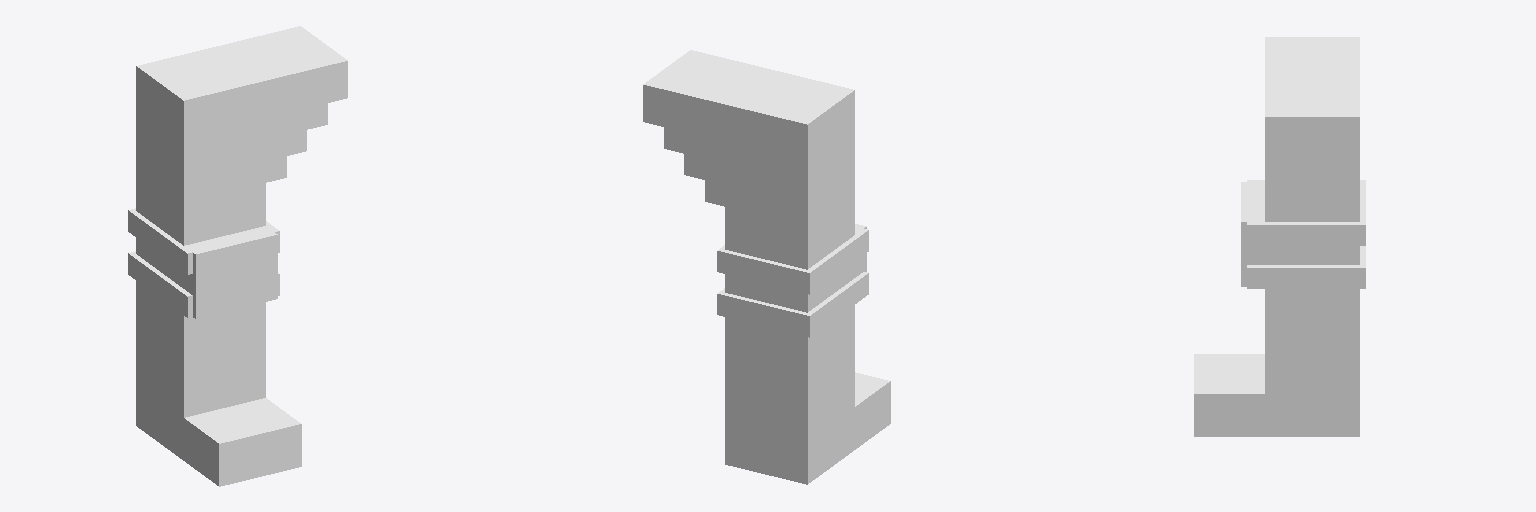
File: TEnemy-2.obj
The picture shows the model from 3 angles: view 1: azimuth 30°, elevation 25°; view 2: azimuth 150°, elevation 25°; view 3: azimuth 270°, elevation 25°; orthographic projection.
Parts seen in each view (by area): view 1: object 1; view 2: object 1; view 3: object 1.
Boxes of the visible parts, x1,y1,x2,y2 form: object 1: [128, 26, 347, 486]; object 1: [643, 50, 890, 484]; object 1: [1194, 37, 1365, 436].
Bounding box in the file's own units: 3.3 × 6.7 × 2.9.